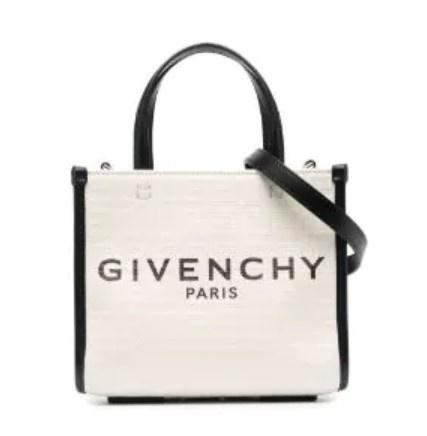GIVENCHY: (88, 252, 328, 284)
